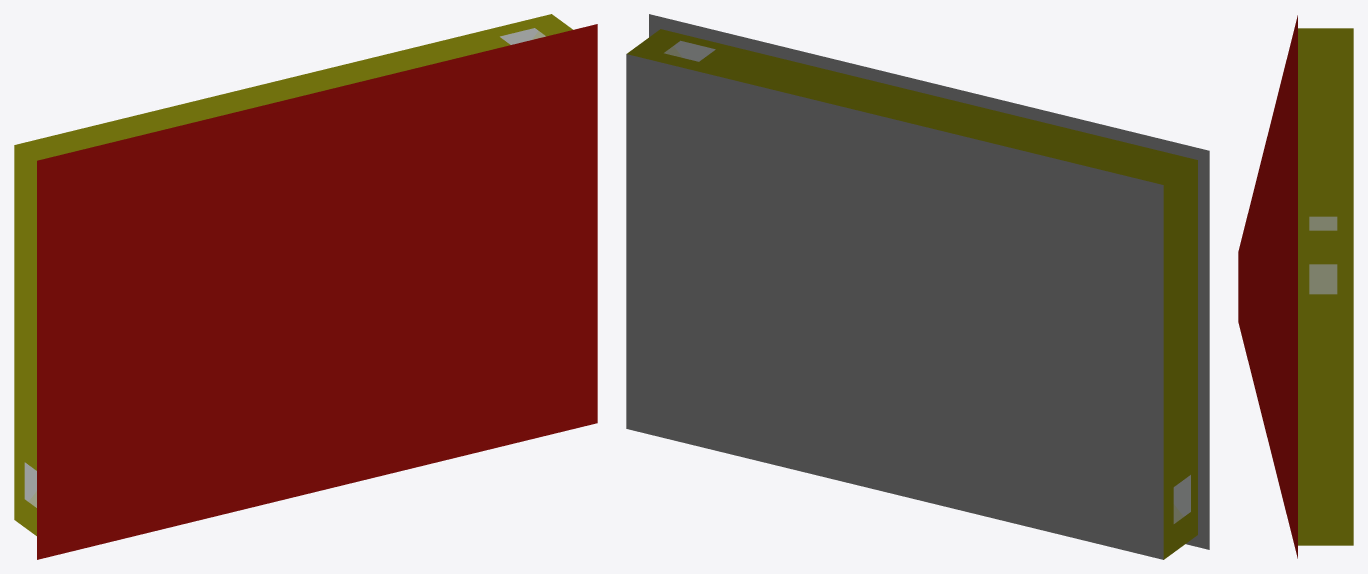
Rendered from idf.obj.
The picture shows the model from 3 angles, left to right: view 1: azimuth 30°, elevation 25°; view 2: azimuth 150°, elevation 25°; view 3: azimuth 270°, elevation 25°; orthographic projection. The views are drawn at different scales.
Bounding box in the file's own units: 28.89 × 19.66 × 6.33.
